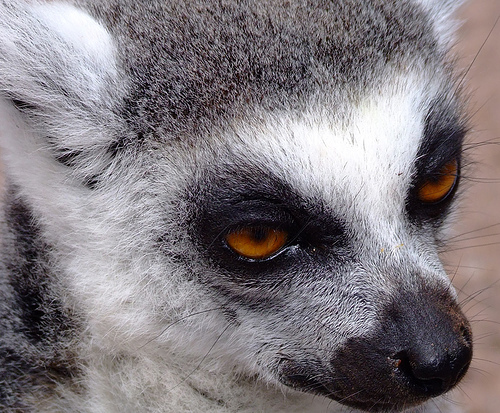cat: (0, 0, 498, 411)
